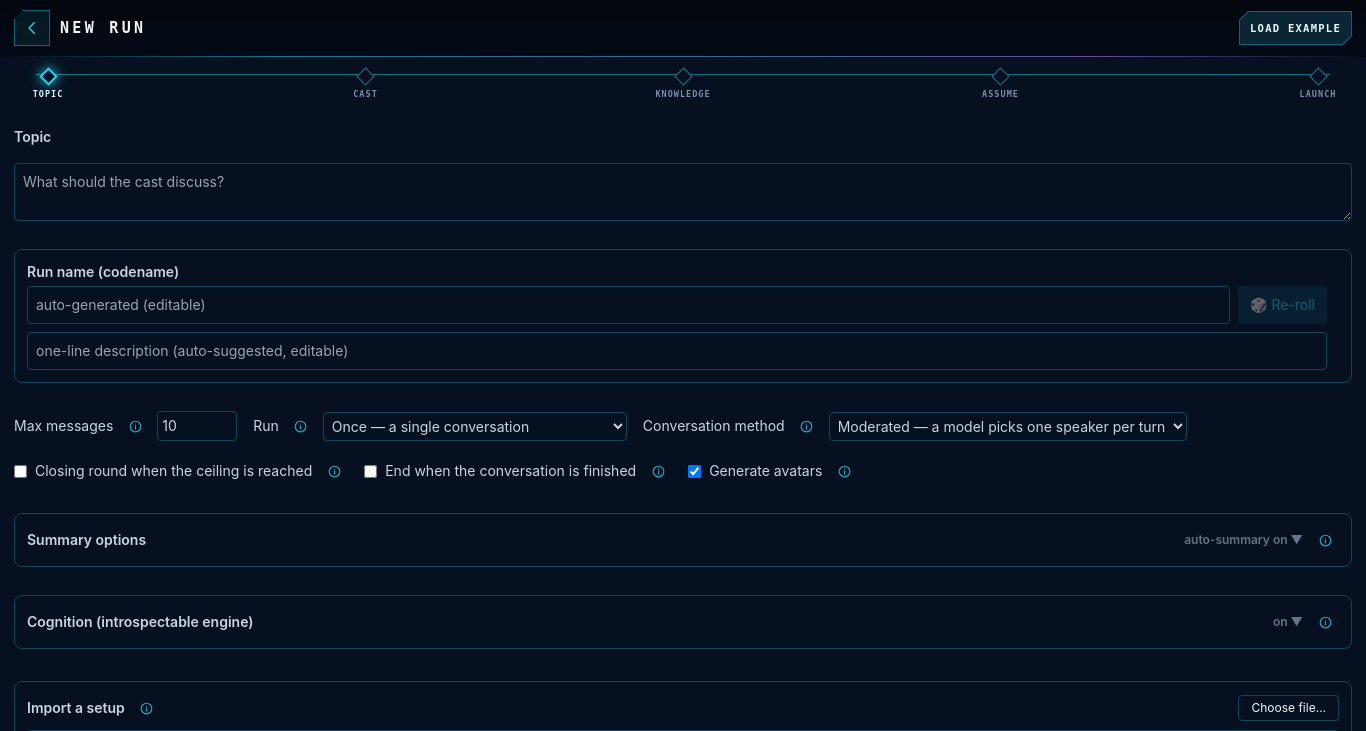
Scenario: NewRunForm conversation method › disables the convergence toggle in simultaneous mode, and says why
The width and height of the screenshot is (1366, 731).
Check: the dropdown next to "Moderated" is shown, box 829,412 -> 1187,440
Click the button "Load example" at (1296, 28), box 1239,11 -> 1352,45
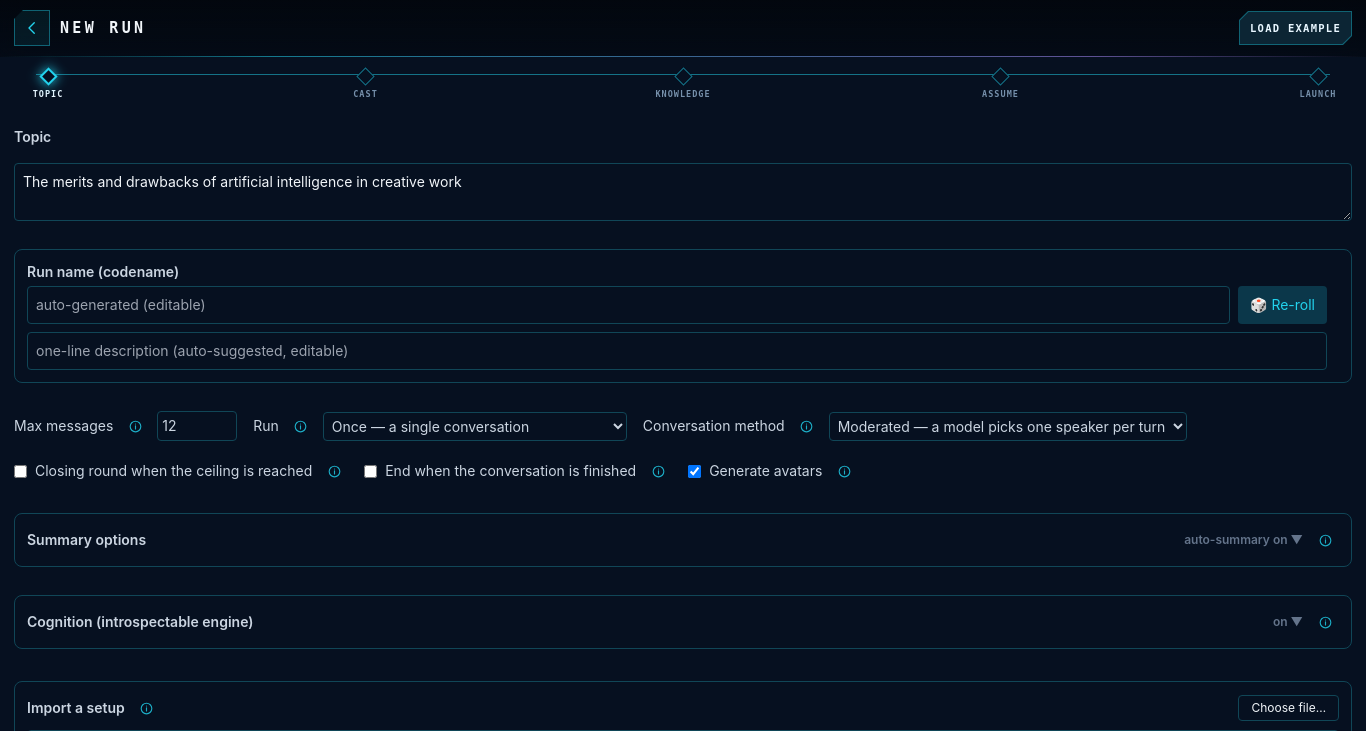
Check: the checkbox labelled "End when the conversation is finished" is enabled, box 364,464 -> 377,478
Select "All talk — everyone at once, blind to each other" in the dropdown next to "Moderated" at (1008, 426), box 829,412 -> 1187,440
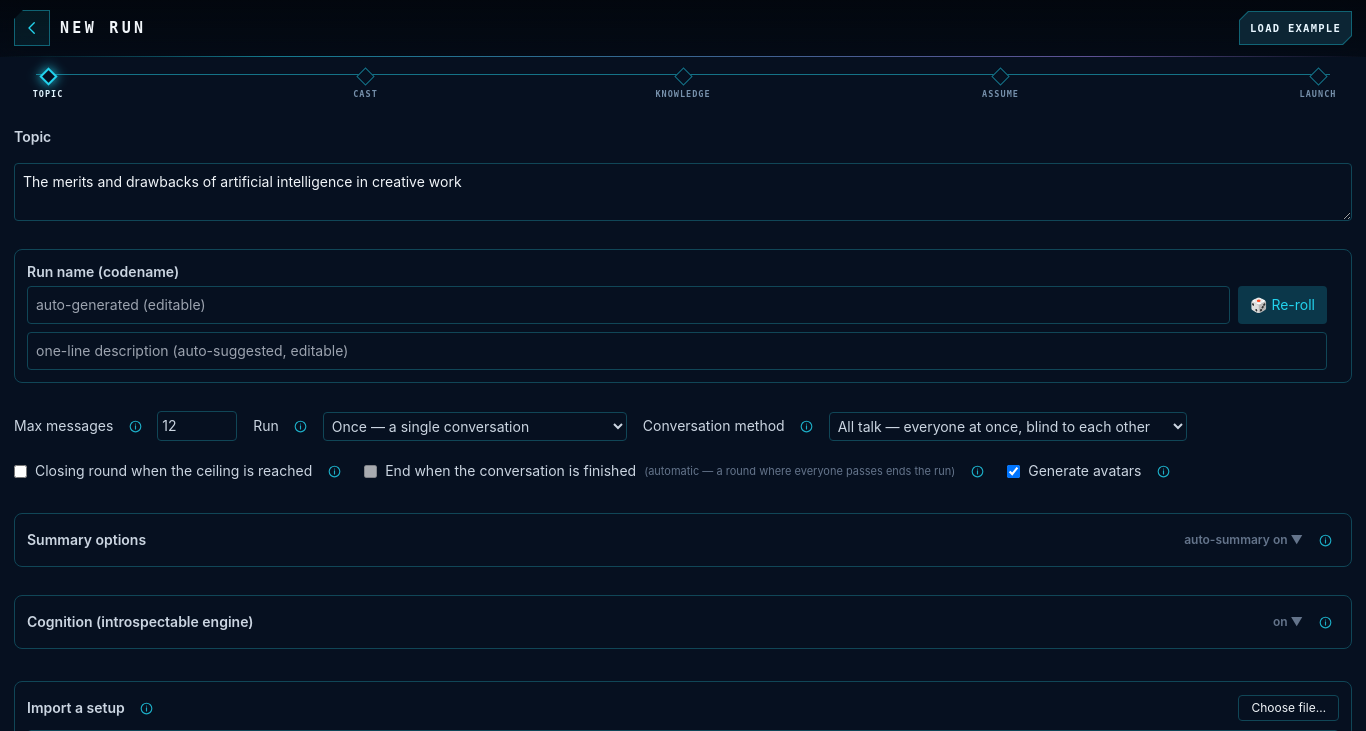
Check: the 2nd checkbox is disabled, box 364,464 -> 377,478
Check: the text "(automatic — a round where everyone passes ends the run)" is shown, box 644,461 -> 955,481
